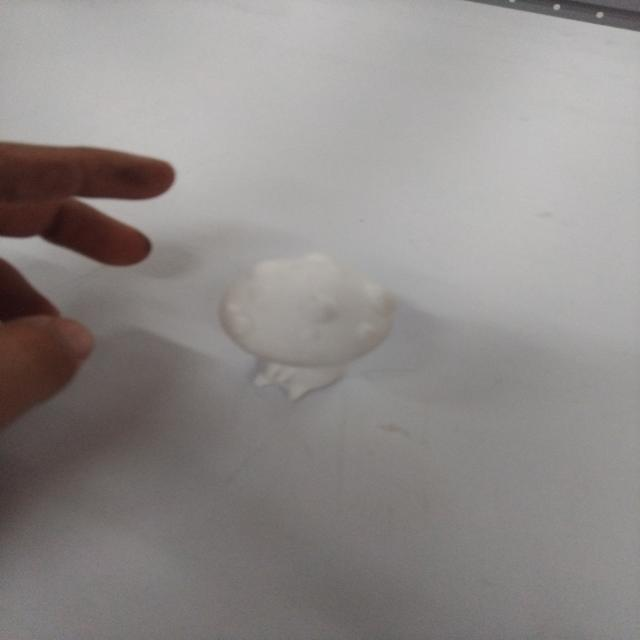Hongo: (208, 242, 402, 411)
